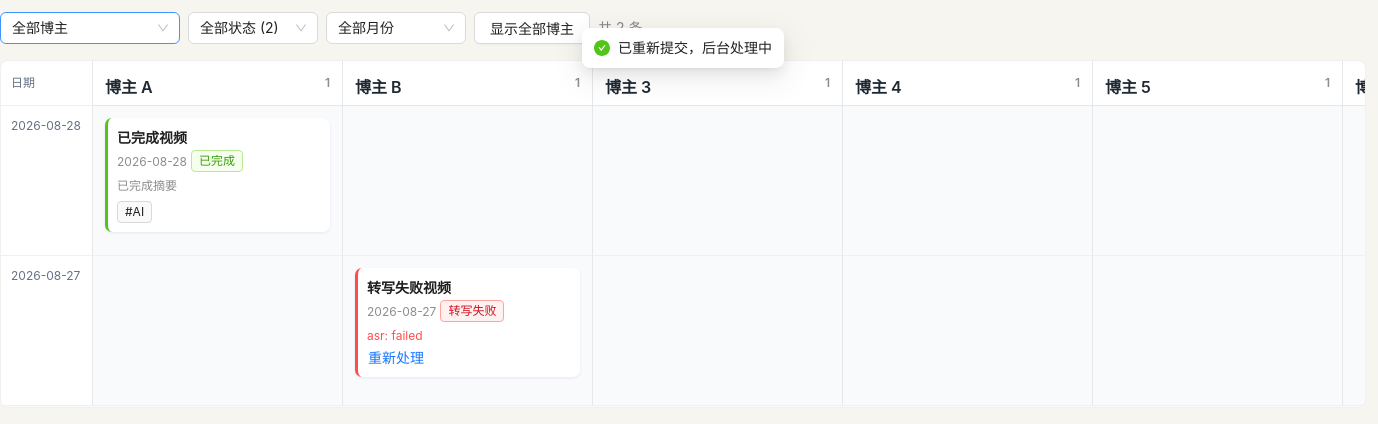
Test: YouTubeTimeline › shows the matching lane when a filter returns a channel outside the default six
Expected: the text "已完成视频" is shown, [117,129,187,146]
Press the mouse on the text "全部月份" at (366, 28), box [338,19,394,36]
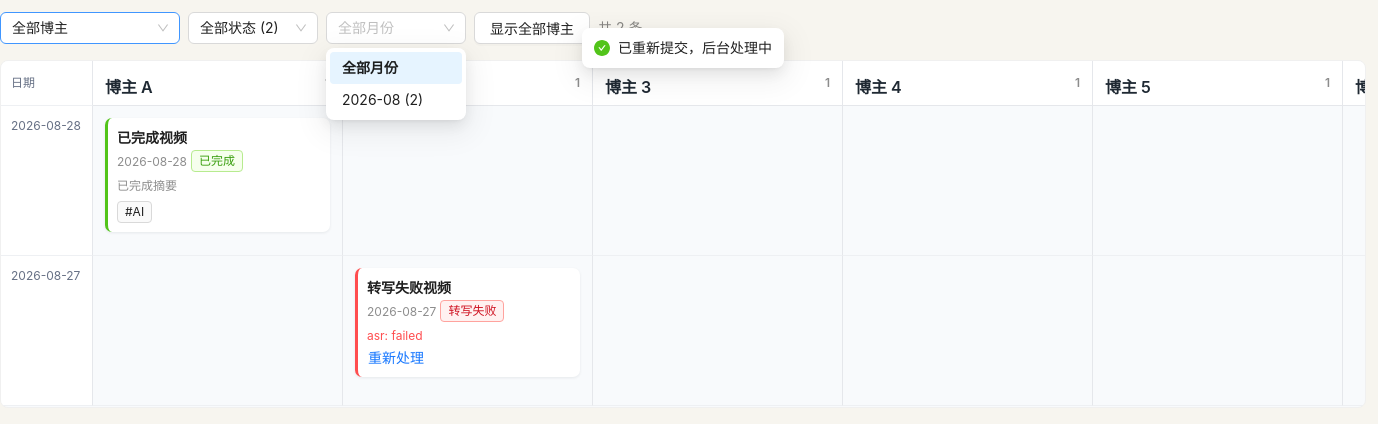
Click the text "2026-08 (2)". click: (383, 100)
box: [342,91,423,108]
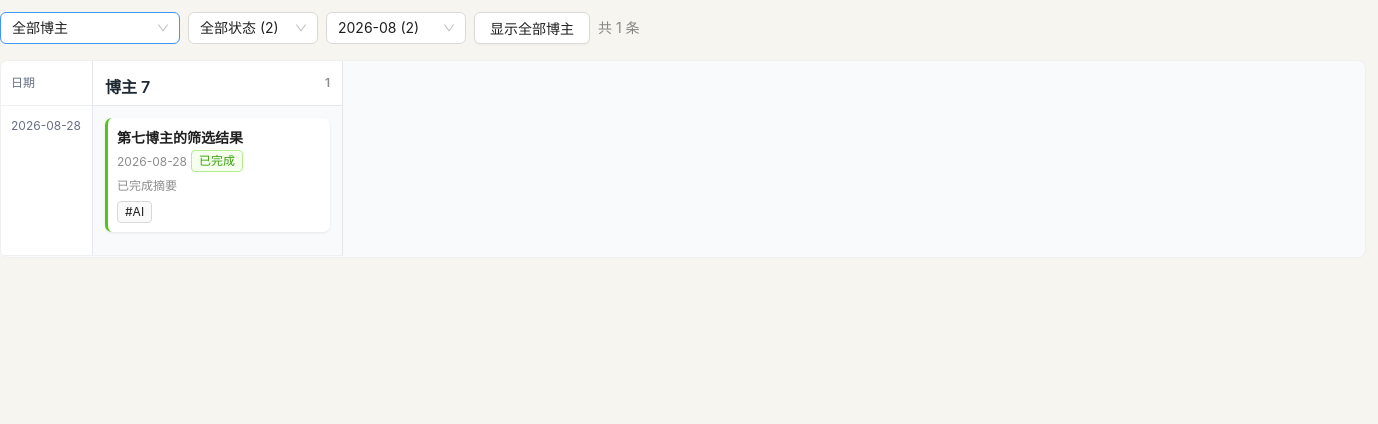
Result: the text "第七博主的筛选结果" is shown at [117,129,243,146]
Result: the text "博主 7" is shown at [105,77,150,97]
